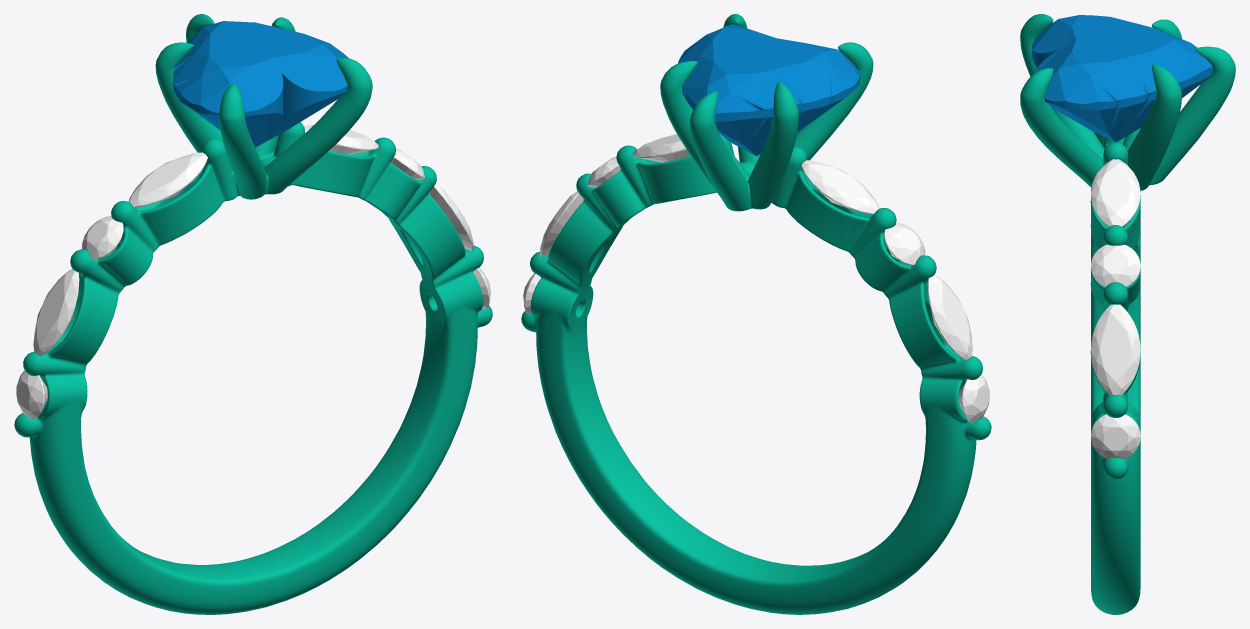
Rendered from BE1D378_HT_200ct_RENDER.glb.
3 renders of one model, left to right at view 1: azimuth 30°, elevation 25°; view 2: azimuth 150°, elevation 25°; view 3: azimuth 270°, elevation 25°, orthographic. The views are drawn at different scales.
Parts seen in each view (by area): view 1: Metal 01, CS_Diamond_Heart, Diamond_Marquise_Gem_SH.001, Diamond_Marquise_Gem_SH, Diamond_Round_Gem_SH.002, Diamond_Round_Gem_SH.003, Diamond_Marquise_Gem_SH.005, Diamond_Marquise_Gem_SH.004; view 2: Metal 01, CS_Diamond_Heart, Diamond_Marquise_Gem_SH.001, Diamond_Marquise_Gem_SH, Diamond_Round_Gem_SH.002, Diamond_Round_Gem_SH.003, Diamond_Marquise_Gem_SH.004, Diamond_Marquise_Gem_SH.005; view 3: Metal 01, CS_Diamond_Heart, Diamond_Marquise_Gem_SH.005, Diamond_Marquise_Gem_SH.004, Diamond_Round_Gem_SH.007, Diamond_Round_Gem_SH.006.
Part boxes in pixels (x1,y1,x2,y2): Metal 01: (14, 14, 492, 614); CS_Diamond_Heart: (173, 21, 348, 147); Diamond_Marquise_Gem_SH.001: (33, 269, 79, 355); Diamond_Marquise_Gem_SH: (128, 152, 207, 207); Diamond_Round_Gem_SH.002: (82, 216, 123, 259); Diamond_Round_Gem_SH.003: (16, 370, 47, 419); Diamond_Marquise_Gem_SH.005: (429, 184, 473, 250); Diamond_Marquise_Gem_SH.004: (304, 125, 378, 154); Metal 01: (521, 14, 991, 614); CS_Diamond_Heart: (678, 24, 860, 156); Diamond_Marquise_Gem_SH.001: (927, 275, 972, 360); Diamond_Marquise_Gem_SH: (801, 160, 879, 214); Diamond_Round_Gem_SH.002: (884, 222, 925, 265); Diamond_Round_Gem_SH.003: (958, 374, 989, 422); Diamond_Marquise_Gem_SH.004: (633, 134, 690, 162); Diamond_Marquise_Gem_SH.005: (540, 191, 583, 256); Metal 01: (1020, 14, 1235, 614); CS_Diamond_Heart: (1032, 15, 1212, 142); Diamond_Marquise_Gem_SH.005: (1091, 304, 1140, 395); Diamond_Marquise_Gem_SH.004: (1091, 159, 1140, 226); Diamond_Round_Gem_SH.007: (1091, 414, 1140, 458); Diamond_Round_Gem_SH.006: (1091, 244, 1140, 286).
Bounding box in the file's own units: 21.66 × 24.57 × 8.7.
